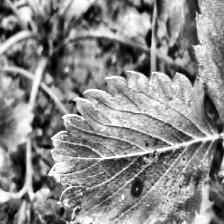Leaf Spot: (46, 71, 219, 224), (192, 0, 224, 135)
